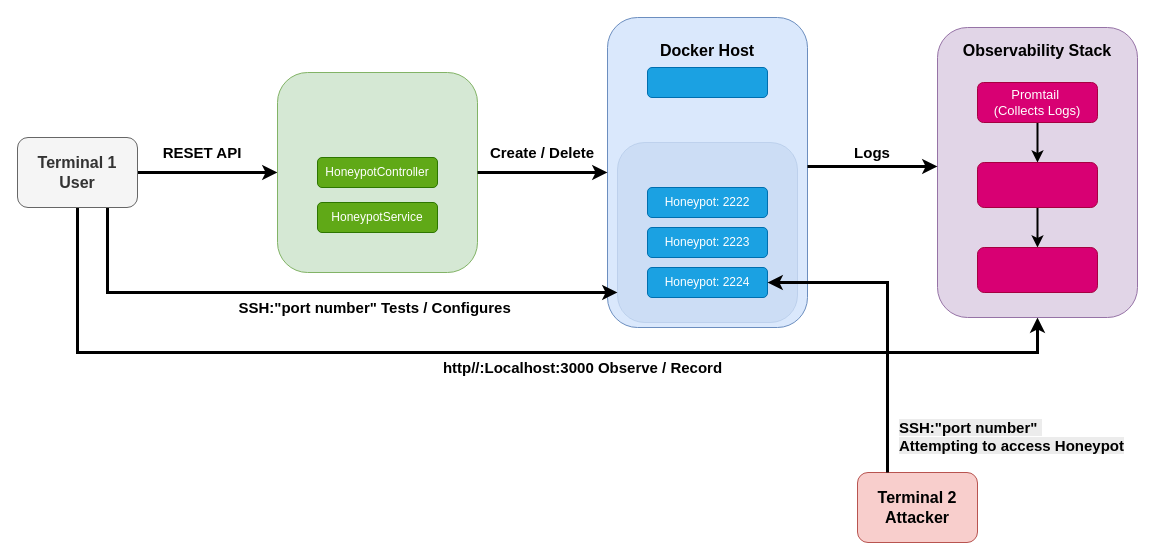
Image size: 1155x560. Some labels were removed from this diagram. Here are the shapes that lost their labels. From the top down, the box of each, then its label:
(646, 66, 768, 98): Docker Daemon
(276, 72, 478, 272): Honeypot API (Spring Boot) : 8080
(976, 162, 1098, 208): Loki: 3100 (Stores Logs )
(616, 142, 798, 322): Cowrie Containers (Honeypots)
(976, 246, 1098, 292): Grafana : 3000 (Displays Logs)
